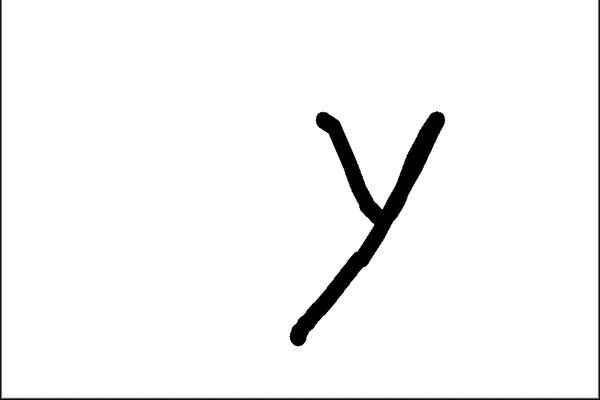Y: (279, 97, 470, 351)
